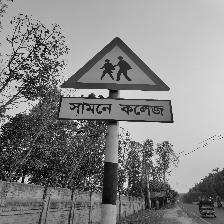College-in-front: (41, 36, 189, 145)
